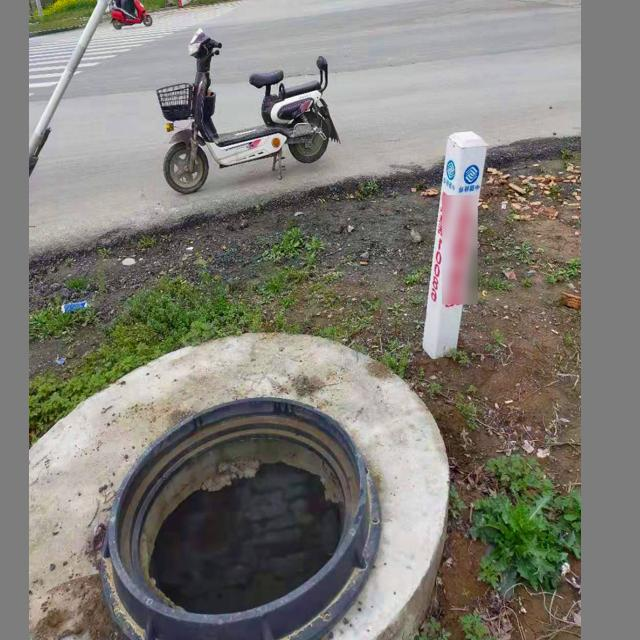lose: (97, 399, 384, 640)
